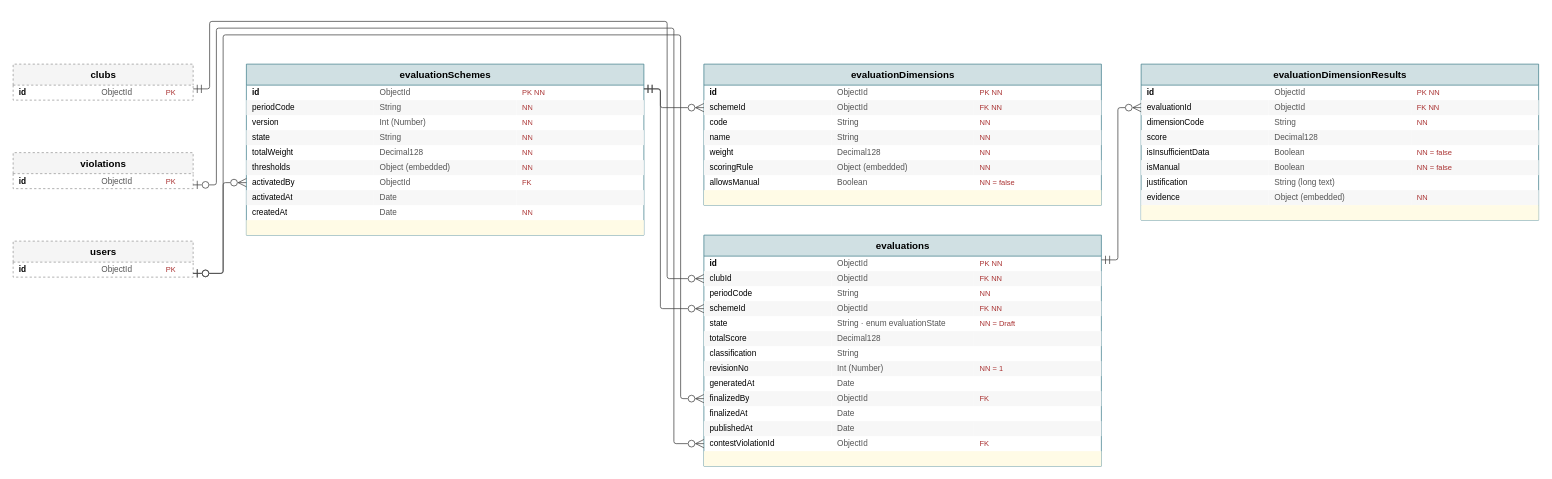
The diagram is 1552 pixels wide and 479 high, and some of its shapes have lost their labels. The centre of each missing label's shape, as x and y in pixels:
UQ (clubId, periodCode, revisionNo): the point at 902,458
UQ (evaluationId, dimensionCode): the point at 1339,212
UQ (periodCode, version): the point at 445,227
UQ (schemeId, code): the point at 902,197
